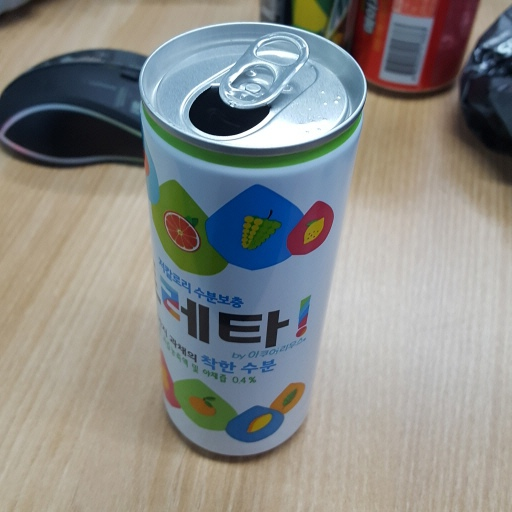Metal_0: (139, 22, 367, 460)
